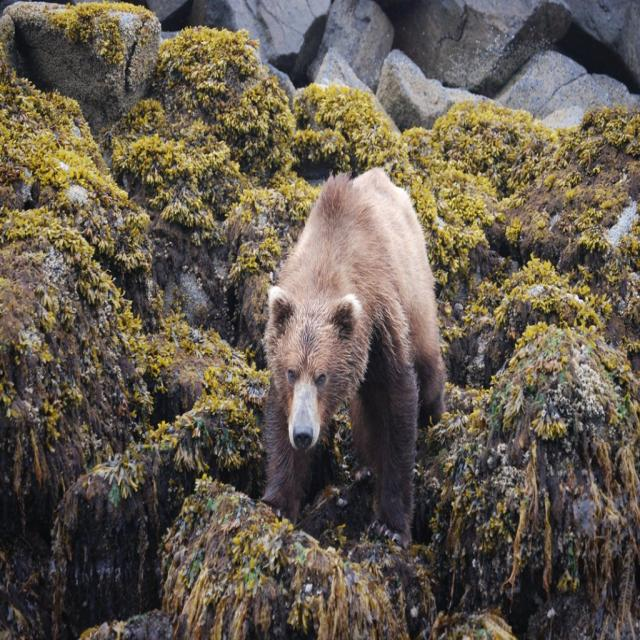Cheetahs: (259, 169, 445, 547)
